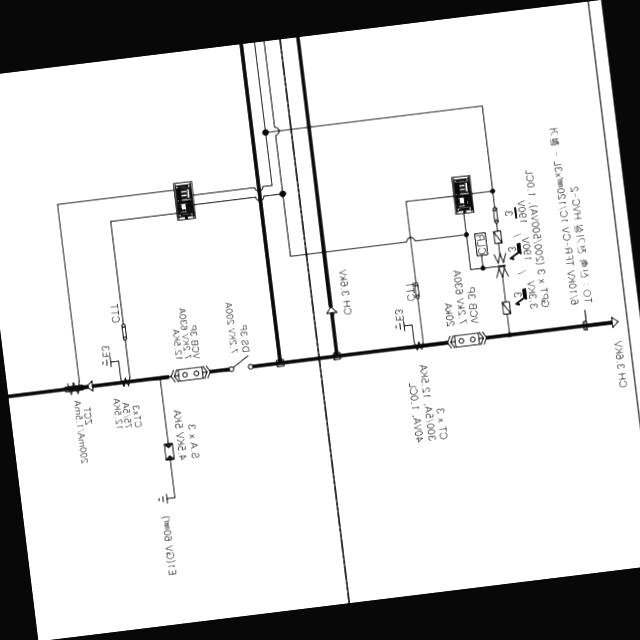CB: (453, 332, 480, 347), (176, 366, 201, 382)
CH: (609, 316, 618, 327), (324, 306, 336, 313), (86, 380, 92, 391)
CT: (412, 339, 423, 350), (119, 376, 131, 386)
GND: (154, 491, 168, 506), (98, 356, 110, 369), (392, 320, 404, 332)
LA: (162, 442, 174, 460)
PF2: (491, 230, 502, 244), (500, 300, 510, 314)
PT: (492, 252, 508, 278)
ZCT: (64, 380, 81, 394)
ds: (226, 353, 252, 371)
